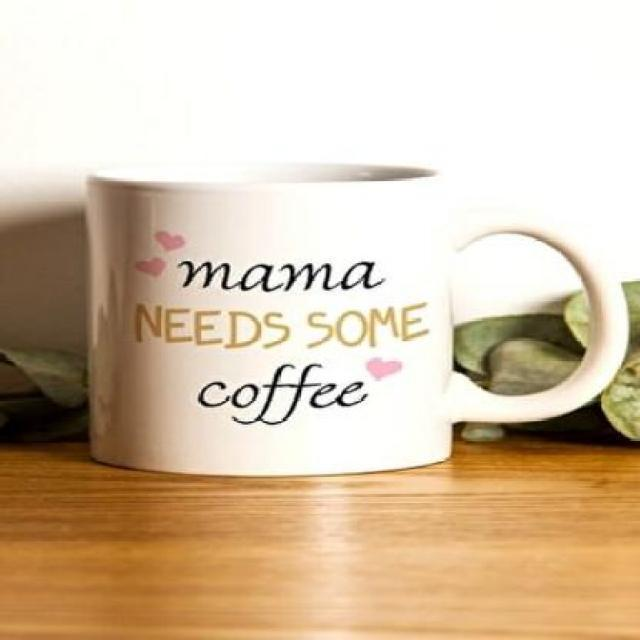taza: (84, 154, 630, 476)
